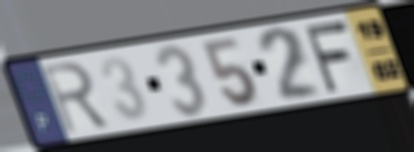2: (257, 24, 326, 105)
3: (155, 39, 212, 121), (101, 54, 148, 124)
5: (198, 34, 261, 108)
F: (300, 17, 352, 95)
R: (39, 59, 113, 136)
